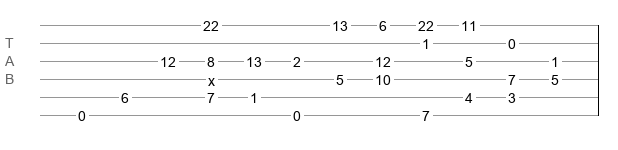0: (78, 108, 86, 118), (293, 108, 301, 118), (508, 36, 516, 46)
1: (250, 90, 258, 100), (422, 36, 430, 46), (551, 54, 559, 64)
10: (375, 72, 391, 82)
11: (461, 18, 477, 28)
12: (160, 54, 176, 64), (375, 54, 391, 64)
13: (246, 54, 262, 64), (332, 18, 348, 28)
2: (293, 54, 301, 64)
22: (203, 18, 219, 28), (418, 18, 434, 28)
3: (508, 90, 516, 100)
4: (465, 90, 473, 100)
5: (336, 72, 344, 82), (465, 54, 473, 64), (551, 72, 559, 82)
6: (121, 90, 129, 100), (379, 18, 387, 28)
7: (207, 90, 215, 100), (422, 108, 430, 118), (508, 72, 516, 82)
8: (207, 54, 215, 64)
x: (208, 73, 215, 81)
